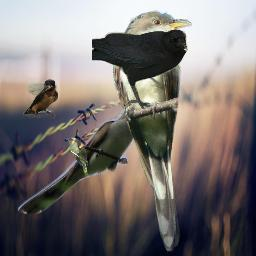Crow: (92, 29, 188, 109)
Cuckoo: (113, 10, 192, 253), (18, 105, 157, 214), (64, 137, 89, 178)
Swallow: (23, 79, 58, 119)
